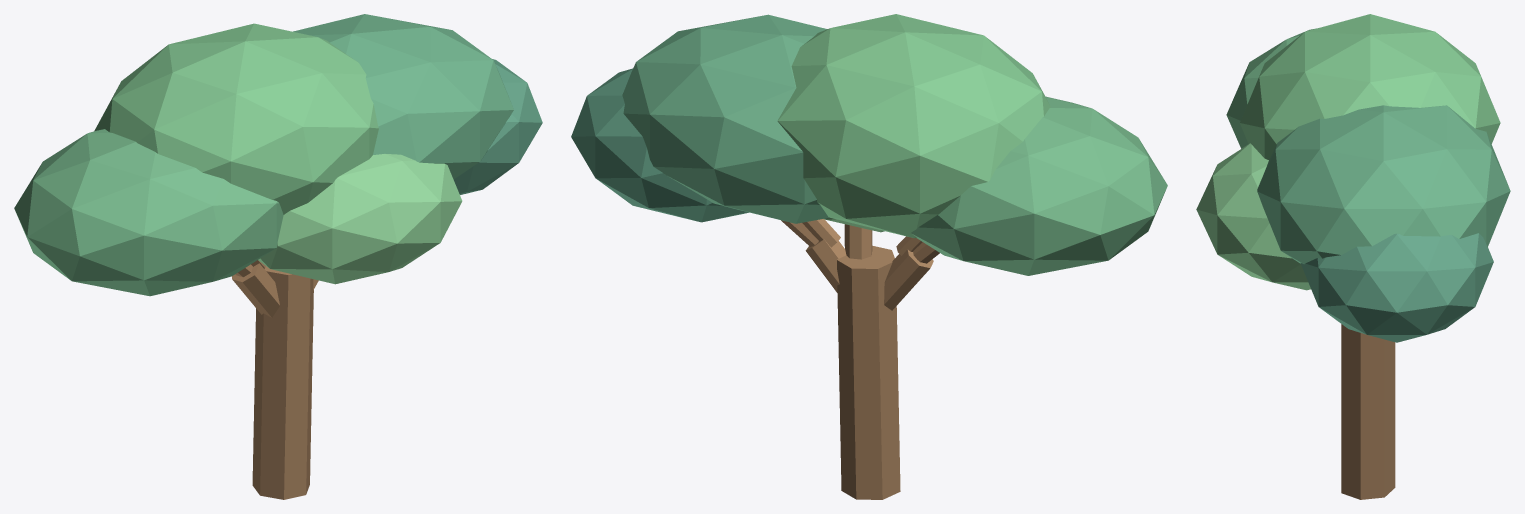
File: vox-tree-spreading.glb
The picture shows the model from 3 angles, left to right: view 1: azimuth 30°, elevation 25°; view 2: azimuth 150°, elevation 25°; view 3: azimuth 270°, elevation 25°; orthographic projection. The views are drawn at different scales.
Parts seen in each view (by area): view 1: crown_1, crown_0, crown_2, crown_4, branch_0, crown_3, branch_1; view 2: crown_1, crown_2, crown_0, branch_0, crown_3, branch_1, branch_3, branch_5; view 3: crown_2, crown_1, crown_3, branch_0, crown_4, crown_0.
Part boxes in pixels (<box>): crown_1: <box>94,23,378,214</box>; crown_0: <box>14,129,283,296</box>; crown_2: <box>293,14,513,179</box>; crown_4: <box>258,154,462,284</box>; branch_0: <box>252,266,313,499</box>; crown_3: <box>453,59,542,194</box>; branch_1: <box>232,263,279,317</box>; crown_1: <box>777,14,1050,238</box>; crown_2: <box>622,14,829,223</box>; crown_0: <box>911,96,1167,275</box>; branch_0: <box>837,245,900,499</box>; crown_3: <box>571,68,748,222</box>; branch_1: <box>884,249,933,310</box>; branch_3: <box>805,239,846,292</box>; branch_5: <box>844,224,872,259</box>; crown_2: <box>1257,105,1510,264</box>; crown_1: <box>1240,14,1500,159</box>; crown_3: <box>1300,233,1493,342</box>; branch_0: <box>1341,324,1395,499</box>; crown_4: <box>1196,143,1310,290</box>; crown_0: <box>1226,28,1316,148</box>.
Size of the model in its own units: 3.53 by 2.88 by 1.88.
